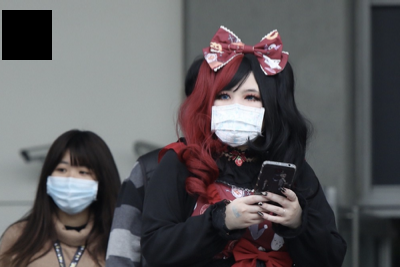with_mask: (208, 86, 266, 148), (46, 159, 101, 217)
